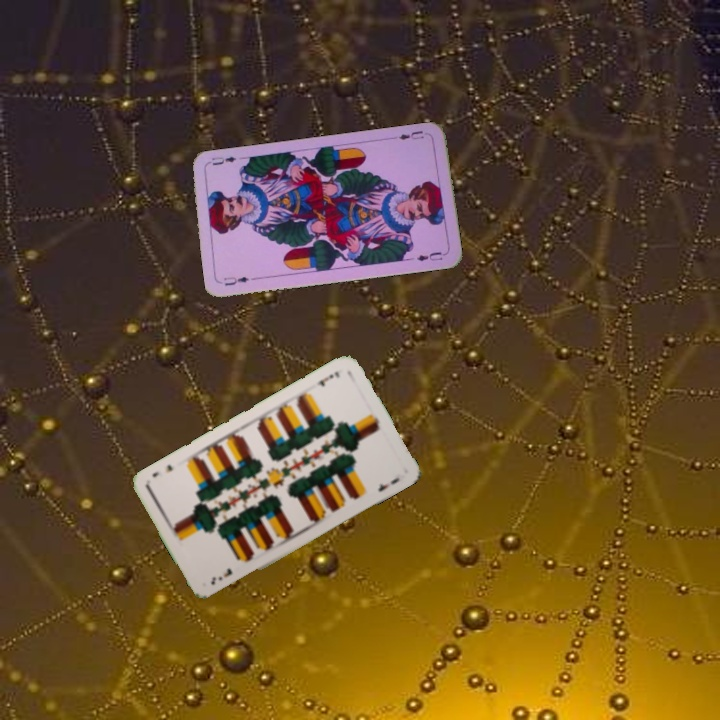E7: (207, 564, 235, 588), (312, 367, 342, 389)
EU: (390, 127, 431, 142), (220, 272, 252, 288)
